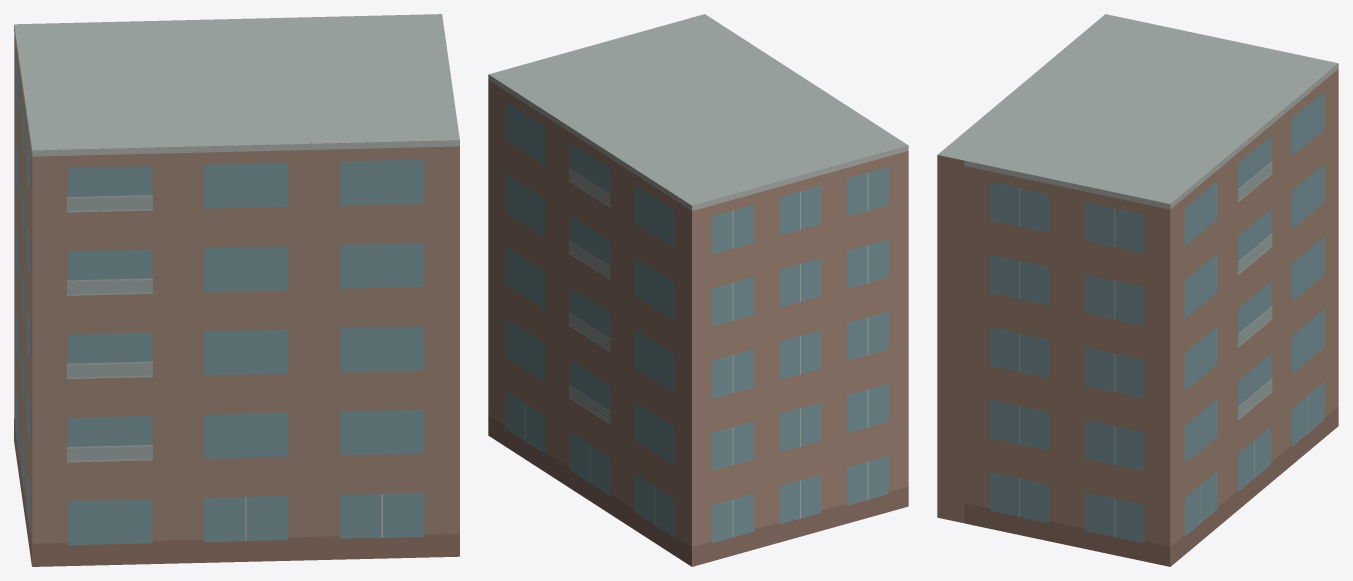
Rendered from survey-upis-32852759.glb.
The picture shows the model from 3 angles, left to right: view 1: azimuth 30°, elevation 25°; view 2: azimuth 150°, elevation 25°; view 3: azimuth 270°, elevation 25°; orthographic projection. The views are drawn at different scales.
Visible parts, largest first — view 1: survey-upis-32852759.tmp; view 2: survey-upis-32852759.tmp; view 3: survey-upis-32852759.tmp.
Part boxes in pixels (<box>): survey-upis-32852759.tmp: <box>14,14,459,566</box>; survey-upis-32852759.tmp: <box>488,14,908,566</box>; survey-upis-32852759.tmp: <box>937,14,1338,566</box>.
Bounding box in the file's own units: 18.33 × 16.3 × 16.35.
